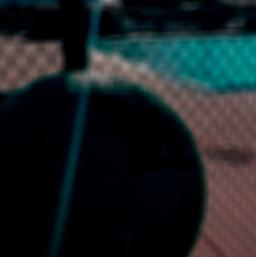algae: (0, 70, 209, 257)
